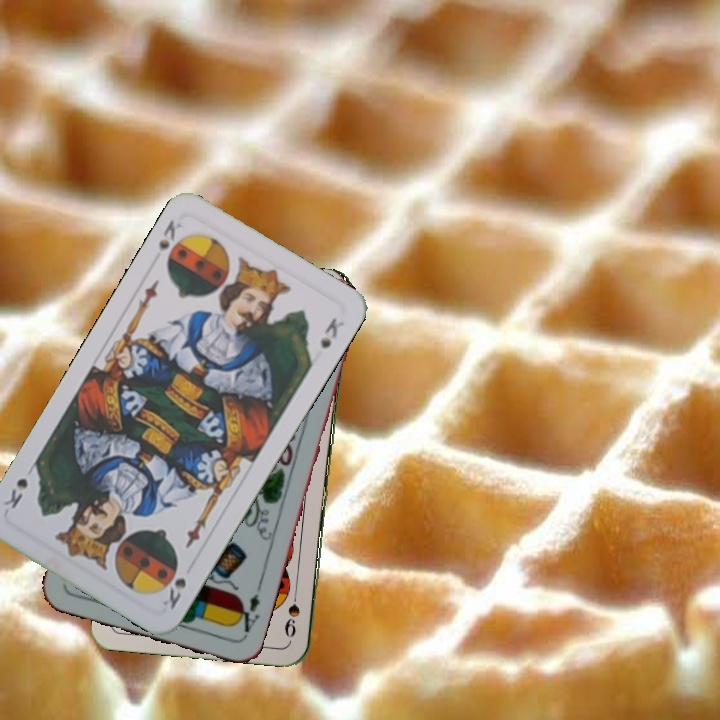EA: (231, 590, 263, 639)
S9: (284, 582, 303, 639)
SK: (158, 562, 189, 612), (154, 215, 185, 254)
